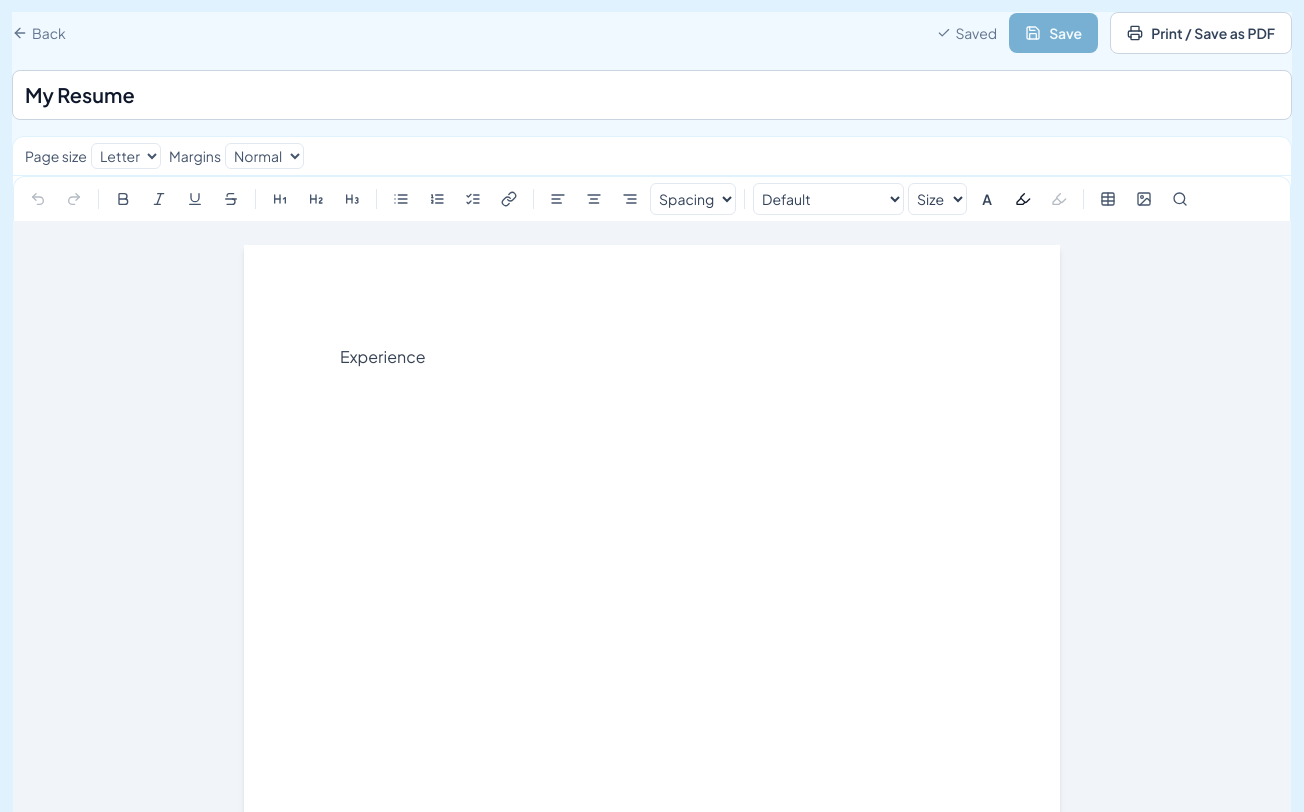
Test case: shows "Unsaved changes" after an edit and the Save button persists immediately
Replace the text in the field named "document title" with "Saved Now" at {"x": 652, "y": 95}, box left=12, top=70, right=1292, bottom=120
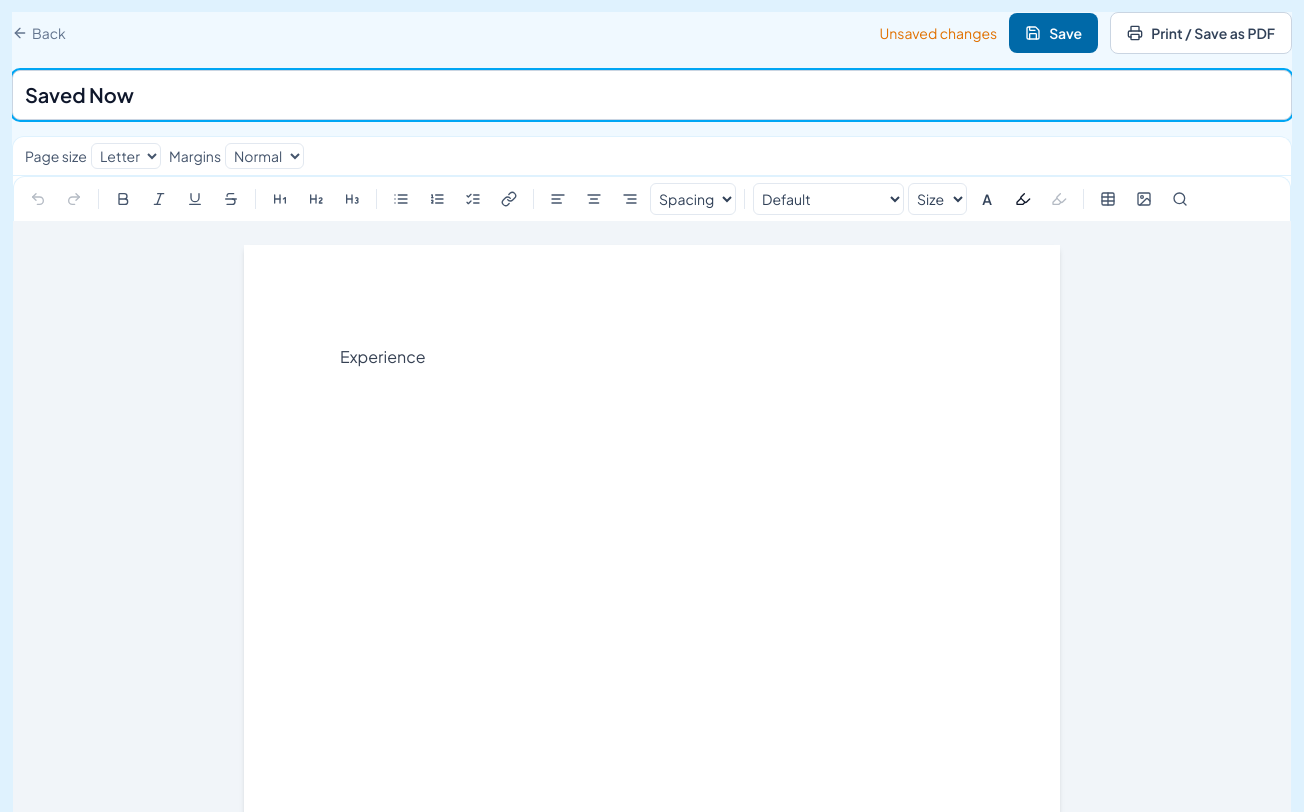
Now the text "Unsaved changes" is shown, box left=880, top=23, right=997, bottom=43
Click the button "Save" at {"x": 1054, "y": 33}, box left=1009, top=13, right=1098, bottom=53
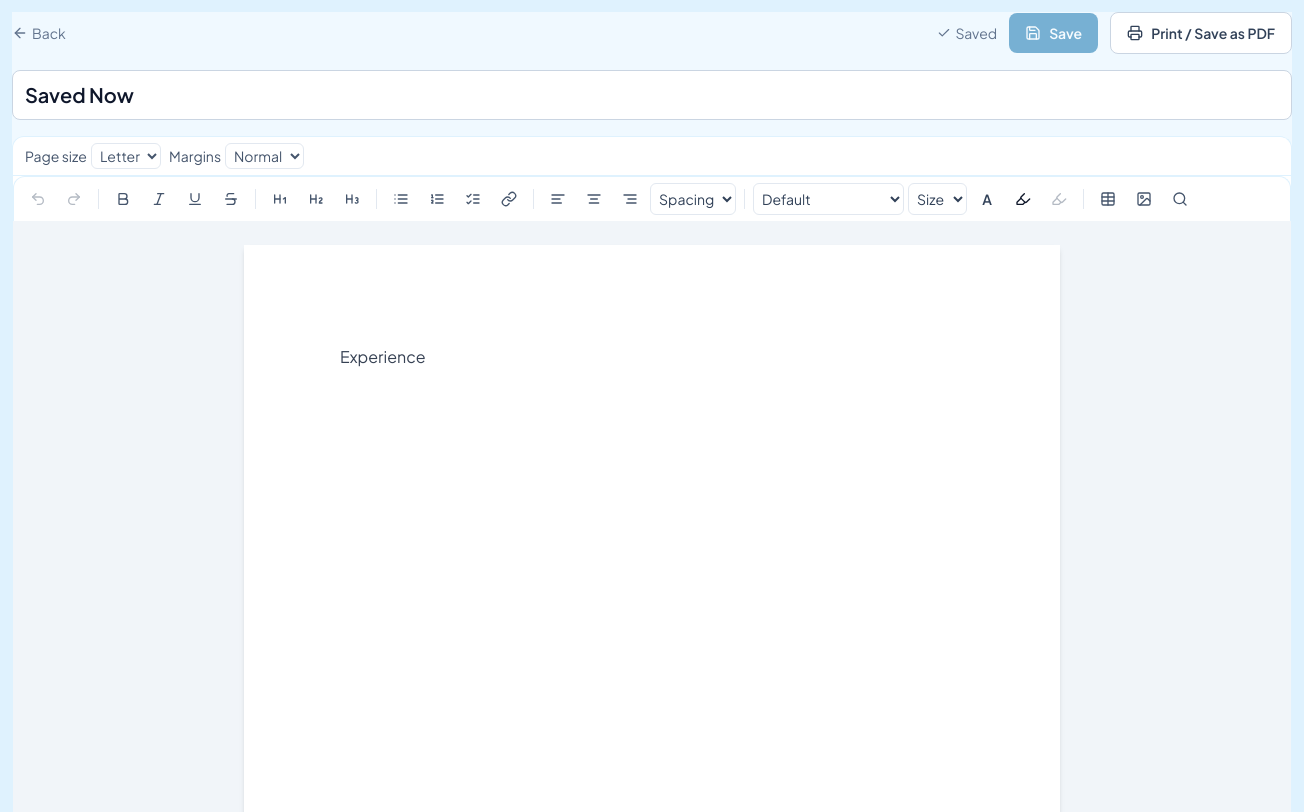
Now the text "Saved" is shown, box left=938, top=23, right=997, bottom=43
